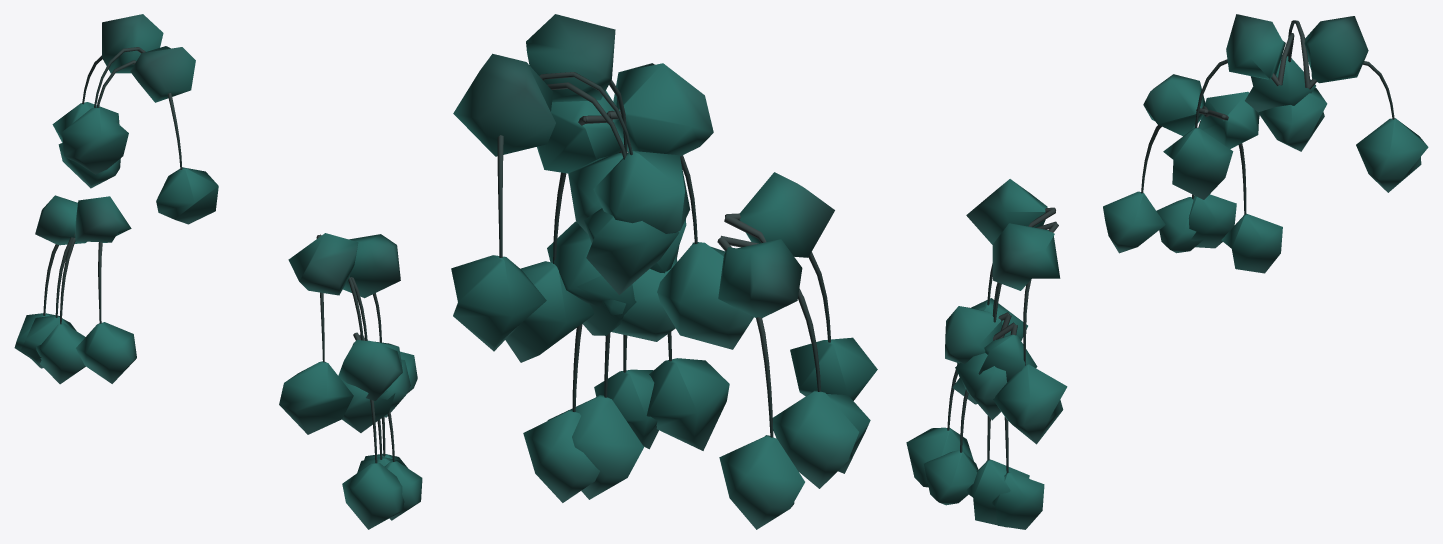
3 views of the same model, side by side, from view 1: azimuth 30°, elevation 25°; view 2: azimuth 150°, elevation 25°; view 3: azimuth 270°, elevation 25° (orthographic). The views are drawn at different scales.
Parts seen in each view (by area): view 1: fruit.006; view 2: fruit.006; view 3: fruit.006.
Part boxes in pixels (x1,y1,x2,y2): fruit.006: (14, 14, 422, 529); fruit.006: (451, 14, 877, 529); fruit.006: (906, 14, 1428, 529).
Size of the model in its own units: 0.3816 by 0.4833 by 0.5.
